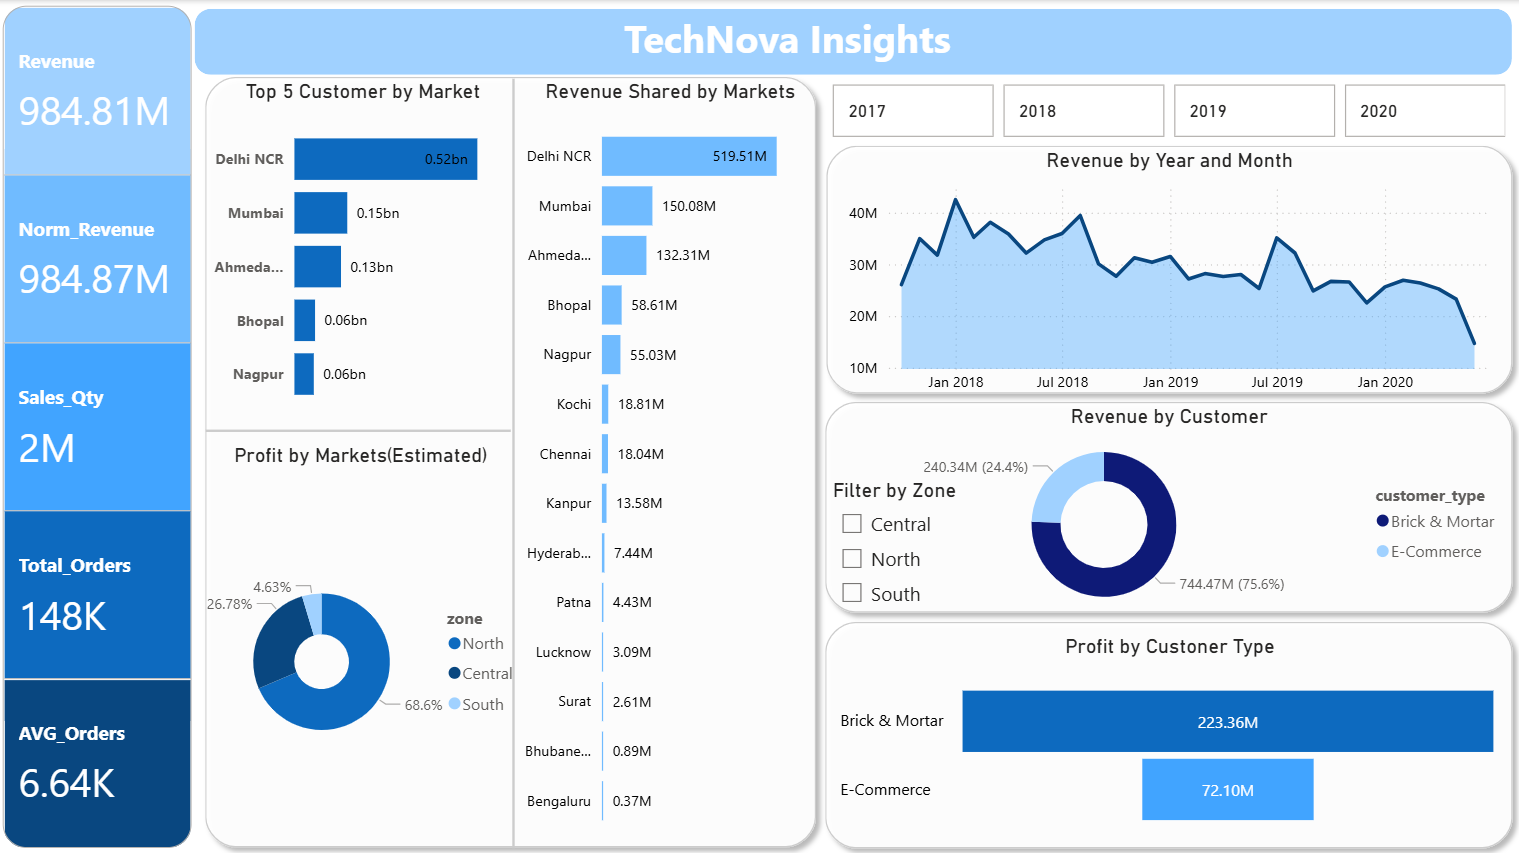

This screenshot's page, from the dashboard's own definition file:
{"tool":"powerbi","page":{"name":"Page 2","canvas":[1280,720],"ordinal":1},"visuals":[{"type":"shape","box":[686.8,112.9,593.2,225.7],"z":0},{"type":"shape","box":[165.1,55.8,530.2,664],"z":1000},{"type":"cardVisual","fields":{"Data":["BaseMeasures.Revenue","BaseMeasures.norm_revenue","BaseMeasures.Sales Qty","BaseMeasures.Total_Orders","BaseMeasures.AVG_Orders"]},"box":[0,0,168.6,719.8],"z":2000},{"type":"clusteredBarChart","title":"Revenue Shared by Markets","fields":{"Category":["sales markets.markets_name"],"Y":["BaseMeasures.Revenue"]},"box":[423.3,66.3,282.6,644.2],"z":3000},{"type":"shape","box":[415.1,66.3,36,645.4],"z":4000},{"type":"barChart","title":"Top 5 Customer by Market","fields":{"Category":["sales markets.markets_name"],"Y":["BaseMeasures.Revenue"]},"box":[165.1,66.3,282.6,289.5],"z":5000},{"type":"shape","box":[175.6,338.4,255.8,45.3],"z":6000},{"type":"lineChart","fields":{"Y":["BaseMeasures.Revenue"],"Category":["sales date.cy_date.Variation.Date Hierarchy.Year","sales date.cy_date.Variation.Date Hierarchy.Month"]},"box":[709.6,123.7,547.5,214.9],"z":7000},{"type":"shape","box":[685.6,327.8,594.4,194.5],"z":8000},{"type":"donutChart","title":"Profit by Markets(Estimated)","fields":{"Y":["sales transactions.Estimated_Profit"],"Category":["sales markets.zone"]},"box":[162.8,370.9,284.9,348.8],"z":9000},{"type":"donutChart","title":"Revenue by Customer","fields":{"Category":["sales customers.customer_type"],"Y":["Sum(sales transactions.sales_amount)"]},"box":[696.4,338.6,574,183.7],"z":10000},{"type":"shape","box":[685.6,512.7,594.4,207.7],"z":11000},{"type":"slicer","title":"Filter by Zone","fields":{"Values":["sales markets.zone"]},"box":[696.1,400.9,126.4,121.8],"z":12000},{"type":"advancedSlicerVisual","fields":{"Values":["sales date.year"]},"box":[696.5,66.3,574.4,54.7],"z":13000},{"type":"shape","box":[165.6,7.3,1105,55.6],"z":14000},{"type":"funnel","title":"Profit by Custoner Type","fields":{"Category":["sales customers.customer_type"],"Y":["sales transactions.Estimated_Profit"]},"box":[702.3,531.4,562.8,184.9],"z":15000},{"type":"textbox","box":[521,7.3,417.2,86],"z":16000}]}

Visuals, with their boxes in screenshot pixels (x1, y1, x2, y2), scaled from the page's 1280x720 canvas onto the 1519x853 screenshot:
shape: x1=815, y1=134, x2=1518, y2=401
shape: x1=196, y1=66, x2=825, y2=852
cardVisual - BaseMeasures.Revenue x BaseMeasures.norm_revenue: x1=0, y1=0, x2=200, y2=852
"Revenue Shared by Markets" clusteredBarChart: x1=502, y1=79, x2=838, y2=842
shape: x1=493, y1=79, x2=535, y2=843
"Top 5 Customer by Market" barChart: x1=196, y1=79, x2=531, y2=422
shape: x1=208, y1=401, x2=512, y2=455
lineChart - BaseMeasures.Revenue x sales date.cy_date.Variation.Date Hierarchy.Year: x1=842, y1=147, x2=1492, y2=401
shape: x1=814, y1=388, x2=1518, y2=619
"Profit by Markets(Estimated)" donutChart: x1=193, y1=439, x2=531, y2=852
"Revenue by Customer" donutChart: x1=826, y1=401, x2=1508, y2=619
shape: x1=814, y1=607, x2=1518, y2=852
"Filter by Zone" slicer: x1=826, y1=475, x2=976, y2=619
advancedSlicerVisual - sales date.year: x1=827, y1=79, x2=1508, y2=143
shape: x1=197, y1=9, x2=1508, y2=75
"Profit by Custoner Type" funnel: x1=833, y1=630, x2=1501, y2=849
textbox: x1=618, y1=9, x2=1113, y2=111
